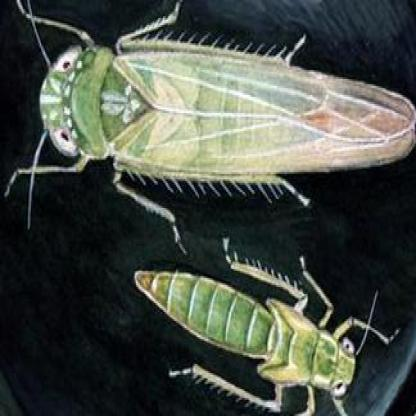green-leafhopper: (45, 23, 406, 186), (140, 272, 361, 398)
